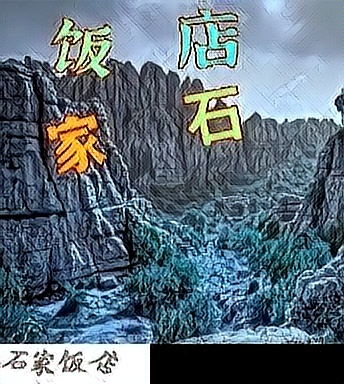B5EA: (176, 5, 239, 71)
B7B9: (51, 13, 114, 79)
BCD2: (45, 110, 108, 176)
CAAF: (180, 81, 243, 147)
